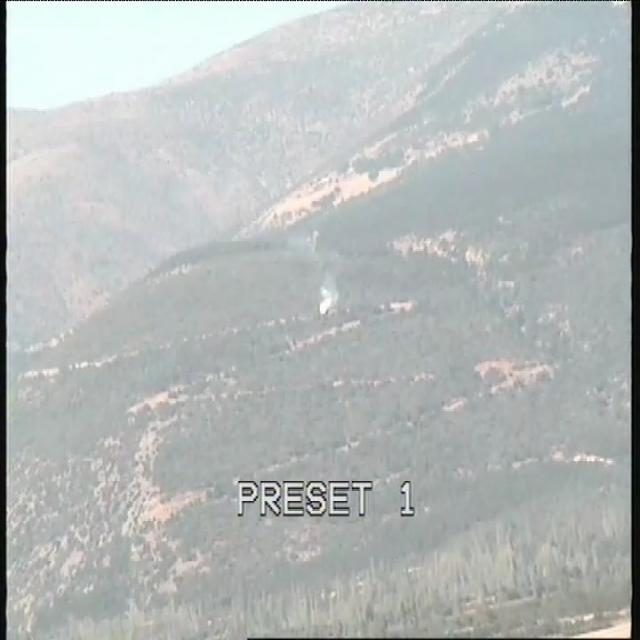smoke: (309, 277, 347, 321)
